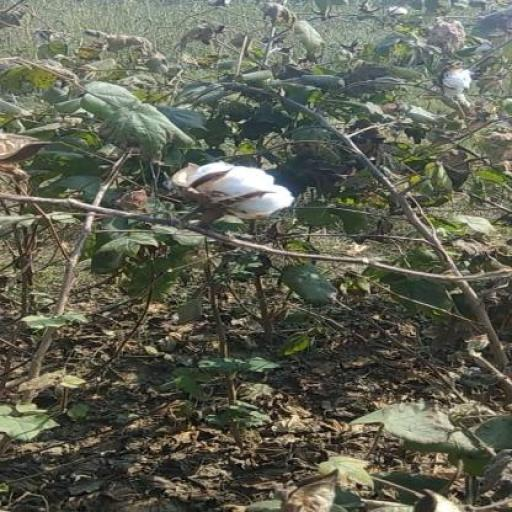cotton_ready: (152, 156, 302, 250)
